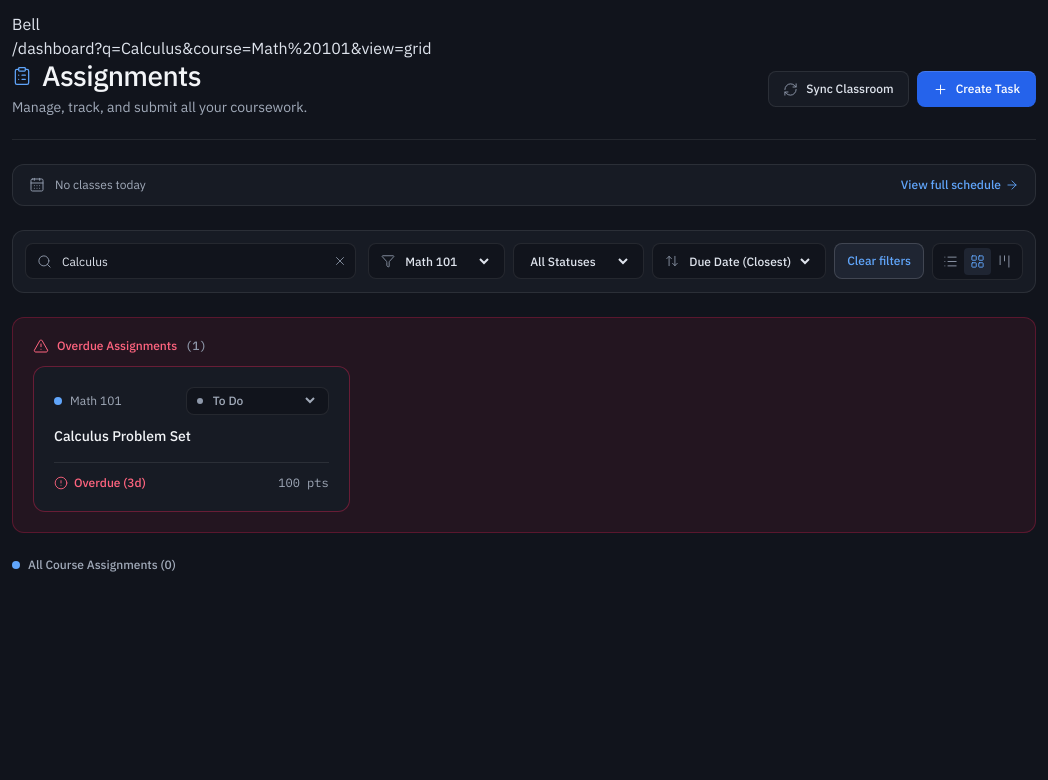
Test case: End-to-End Navigation & User Journey Flows › Journey 2 & 7: Dashboard (with filter/search URL params) -> Assignment -> Back preserves Dashboard URL state
Expected: the text with test id "current-location" reads "/dashboard?q=Calculus&course=Math%20101&view=grid", [12,38,432,58]
What coordinates should you click on to do the following:
click the link "Calculus Problem Set"
I would click on:
 (122, 436)
Its box is [54,427,191,445].
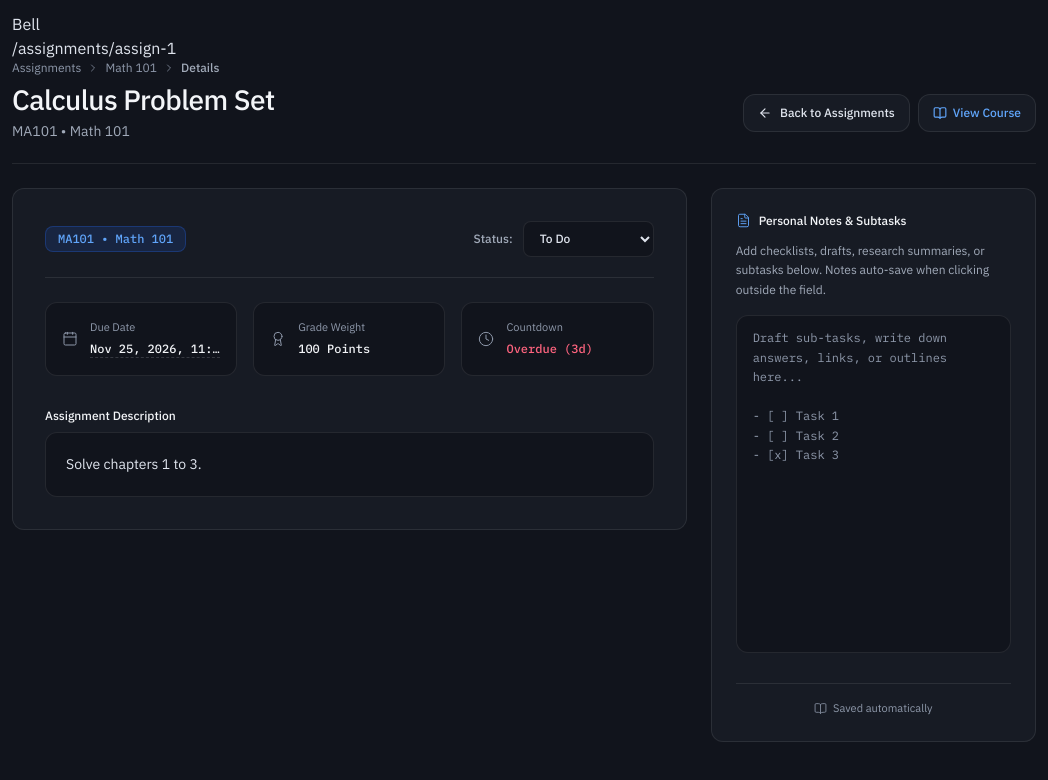
Expected: the text with test id "current-location" reads "/assignments/assign-1", [12,38,176,58]
What coordinates should you click on to do the following:
click the button with test id "assignment-back-button"
I would click on:
 (826, 114)
Its box is [743,94,910,132].
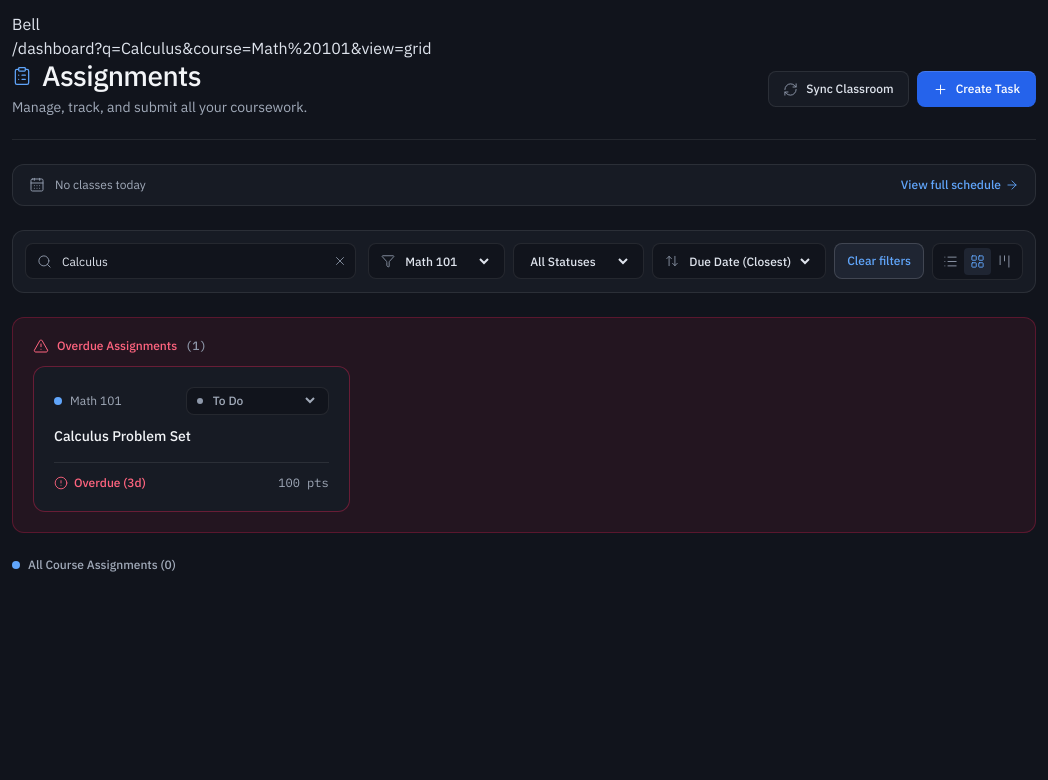
Expected: the text with test id "current-location" reads "/dashboard?q=Calculus&course=Math%20101&view=grid", [12,38,432,58]
